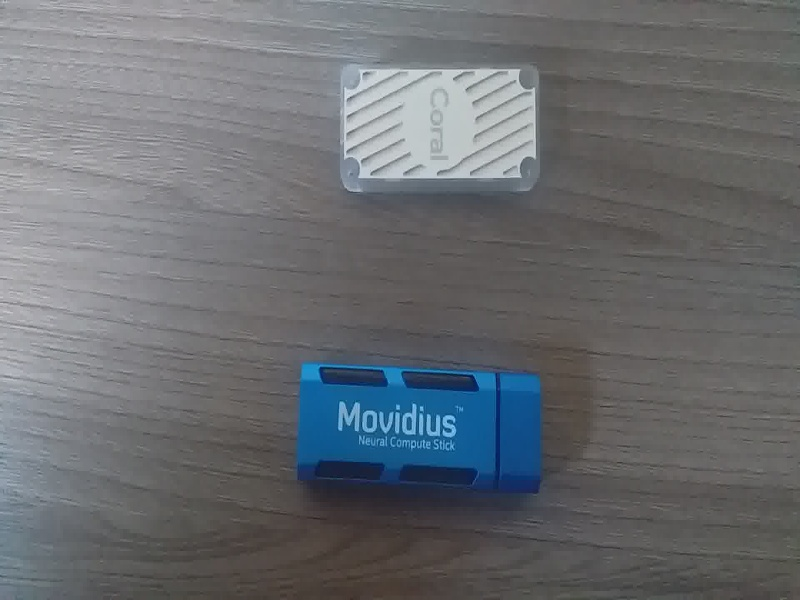coral: (329, 55, 553, 205)
movidius: (291, 346, 551, 510)
